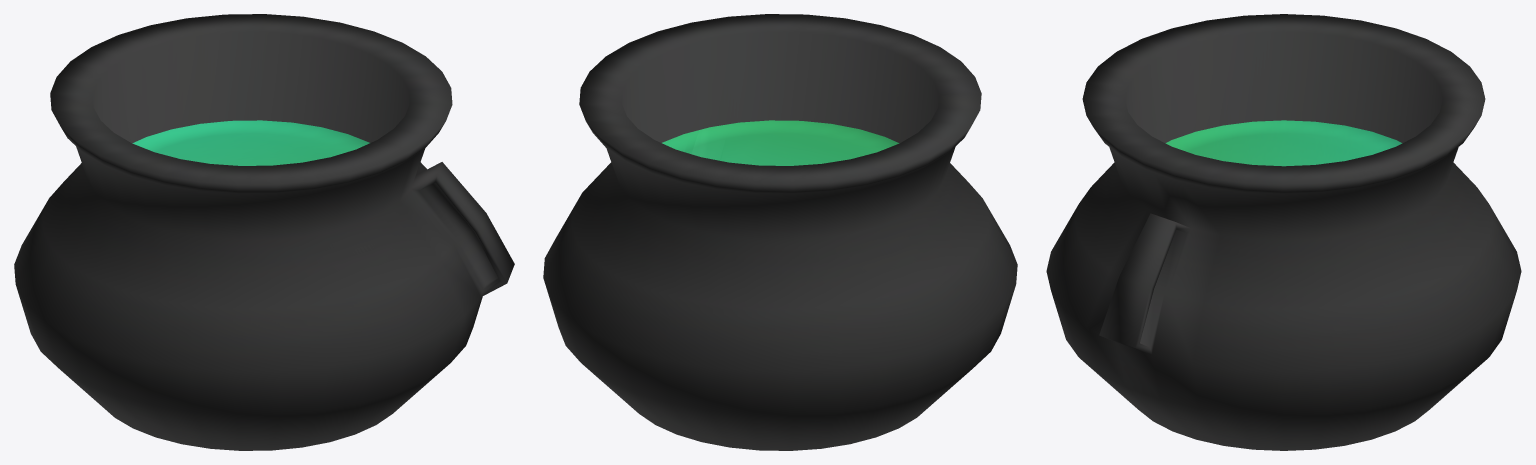
Rendered from cauldron.fbx.
The picture shows the model from 3 angles, left to right: view 1: azimuth 30°, elevation 25°; view 2: azimuth 150°, elevation 25°; view 3: azimuth 270°, elevation 25°; orthographic projection.
Parts seen in each view (by area): view 1: Cylinder.001; view 2: Cylinder.001; view 3: Cylinder.001.
Part boxes in pixels (left/top/right/bottom): Cylinder.001: left=14, top=14, right=514, bottom=450; Cylinder.001: left=543, top=14, right=1017, bottom=450; Cylinder.001: left=1046, top=14, right=1521, bottom=450.
Bounding box in the file's own units: 87.49 × 57.98 × 87.49.
